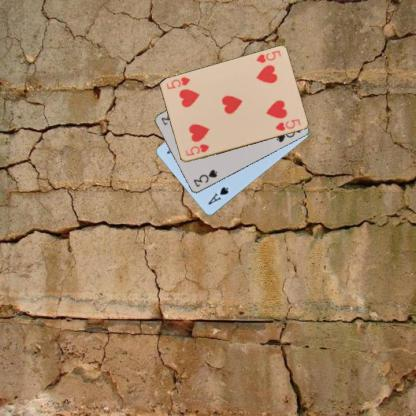3s: (191, 167, 218, 188)
5h: (254, 48, 282, 64), (183, 142, 210, 157)
As: (205, 184, 230, 206)
